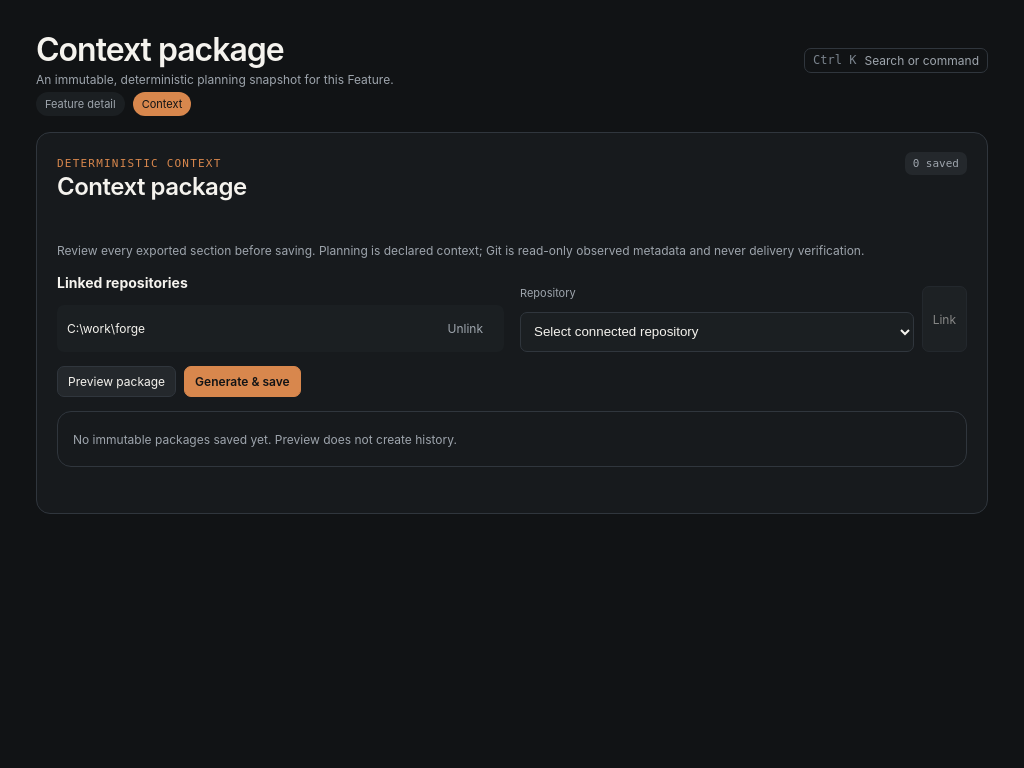
Scenario: FND-04 repository and context surfaces › previews a deterministic context package without creating saved history
Expected: the 1st heading "Context package" is shown, [36, 30, 284, 69]
Click the button "Preview package" at {"x": 117, "y": 382}, box [57, 366, 176, 397]
(page scrolled)
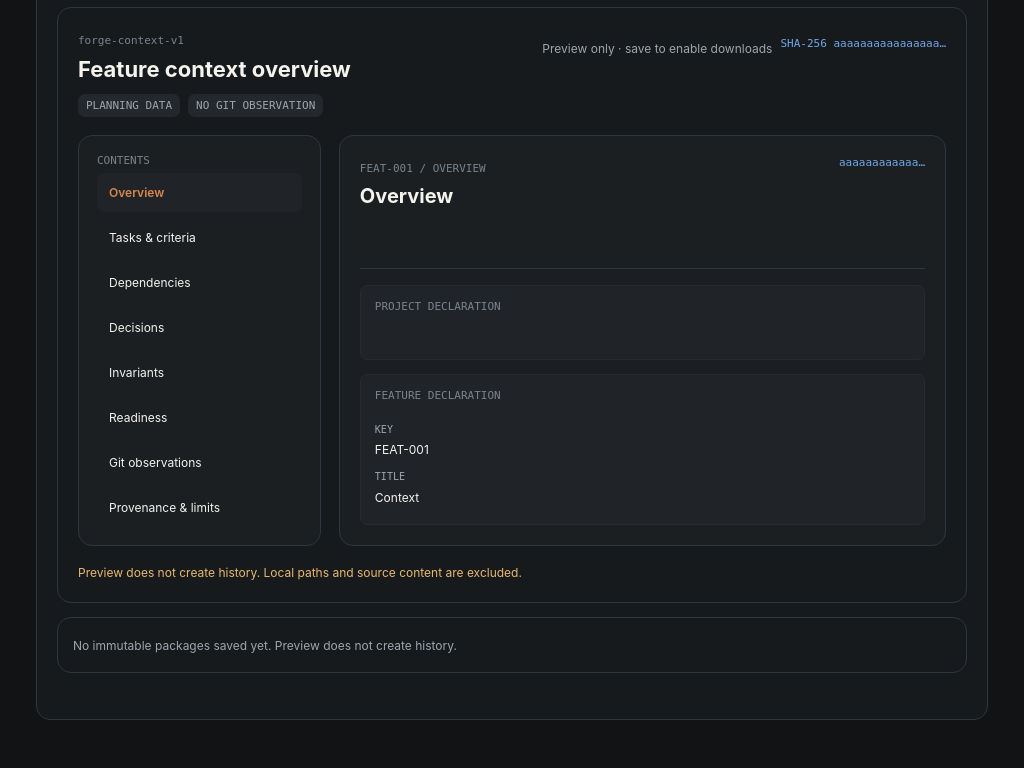
Result: the text "forge-context-v1" is shown at [78, 34, 184, 47]
Click the button "Readiness" at {"x": 199, "y": 418}, box [97, 398, 302, 437]
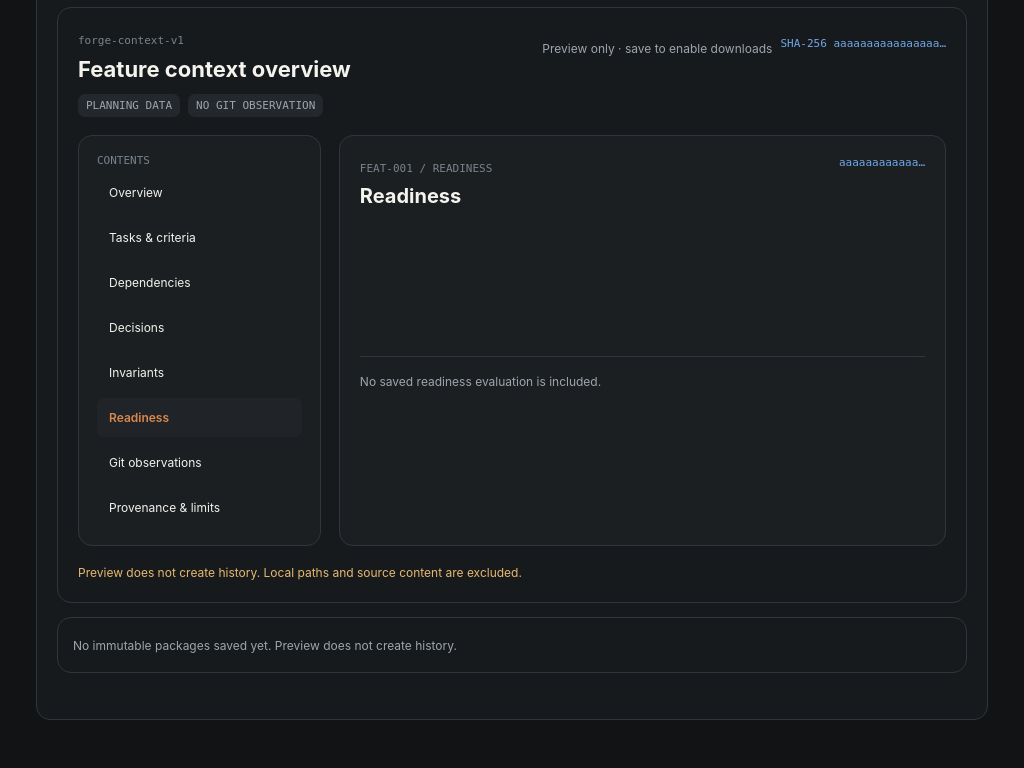
Result: the text "No saved readiness evaluation is included." is shown at [360, 374, 601, 389]
Click the button "Provenance & limits" at {"x": 199, "y": 508}, box [97, 488, 302, 527]
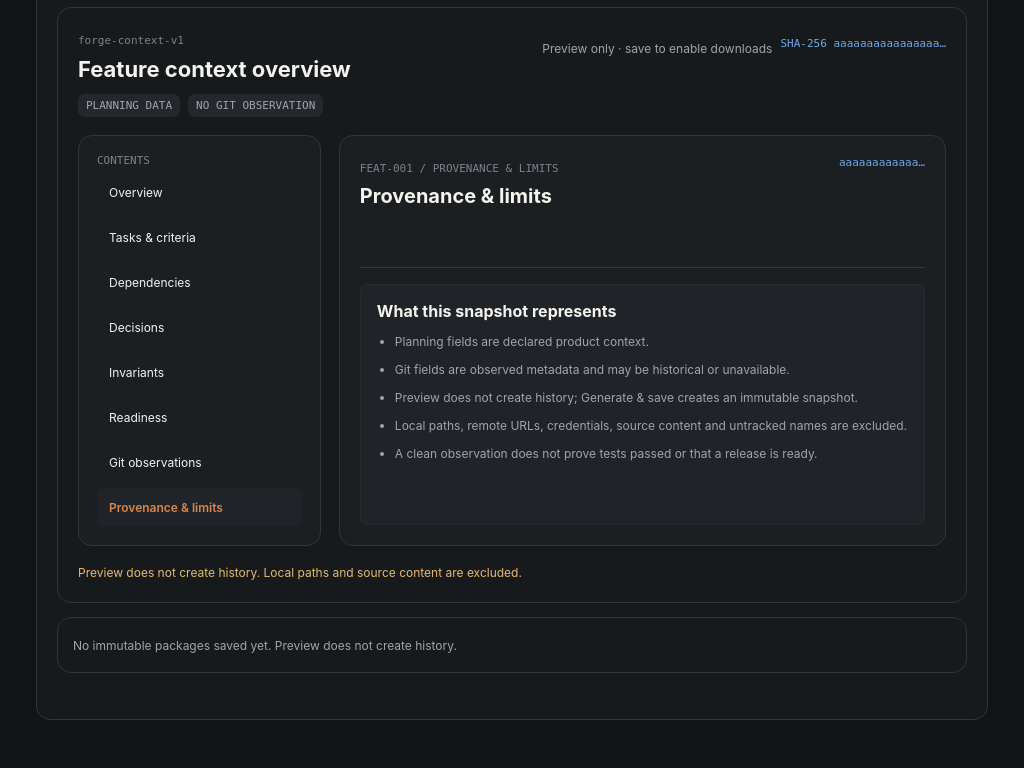
Result: the list item "Local paths, remote URLs, credentials" is shown at [395, 418, 907, 433]
